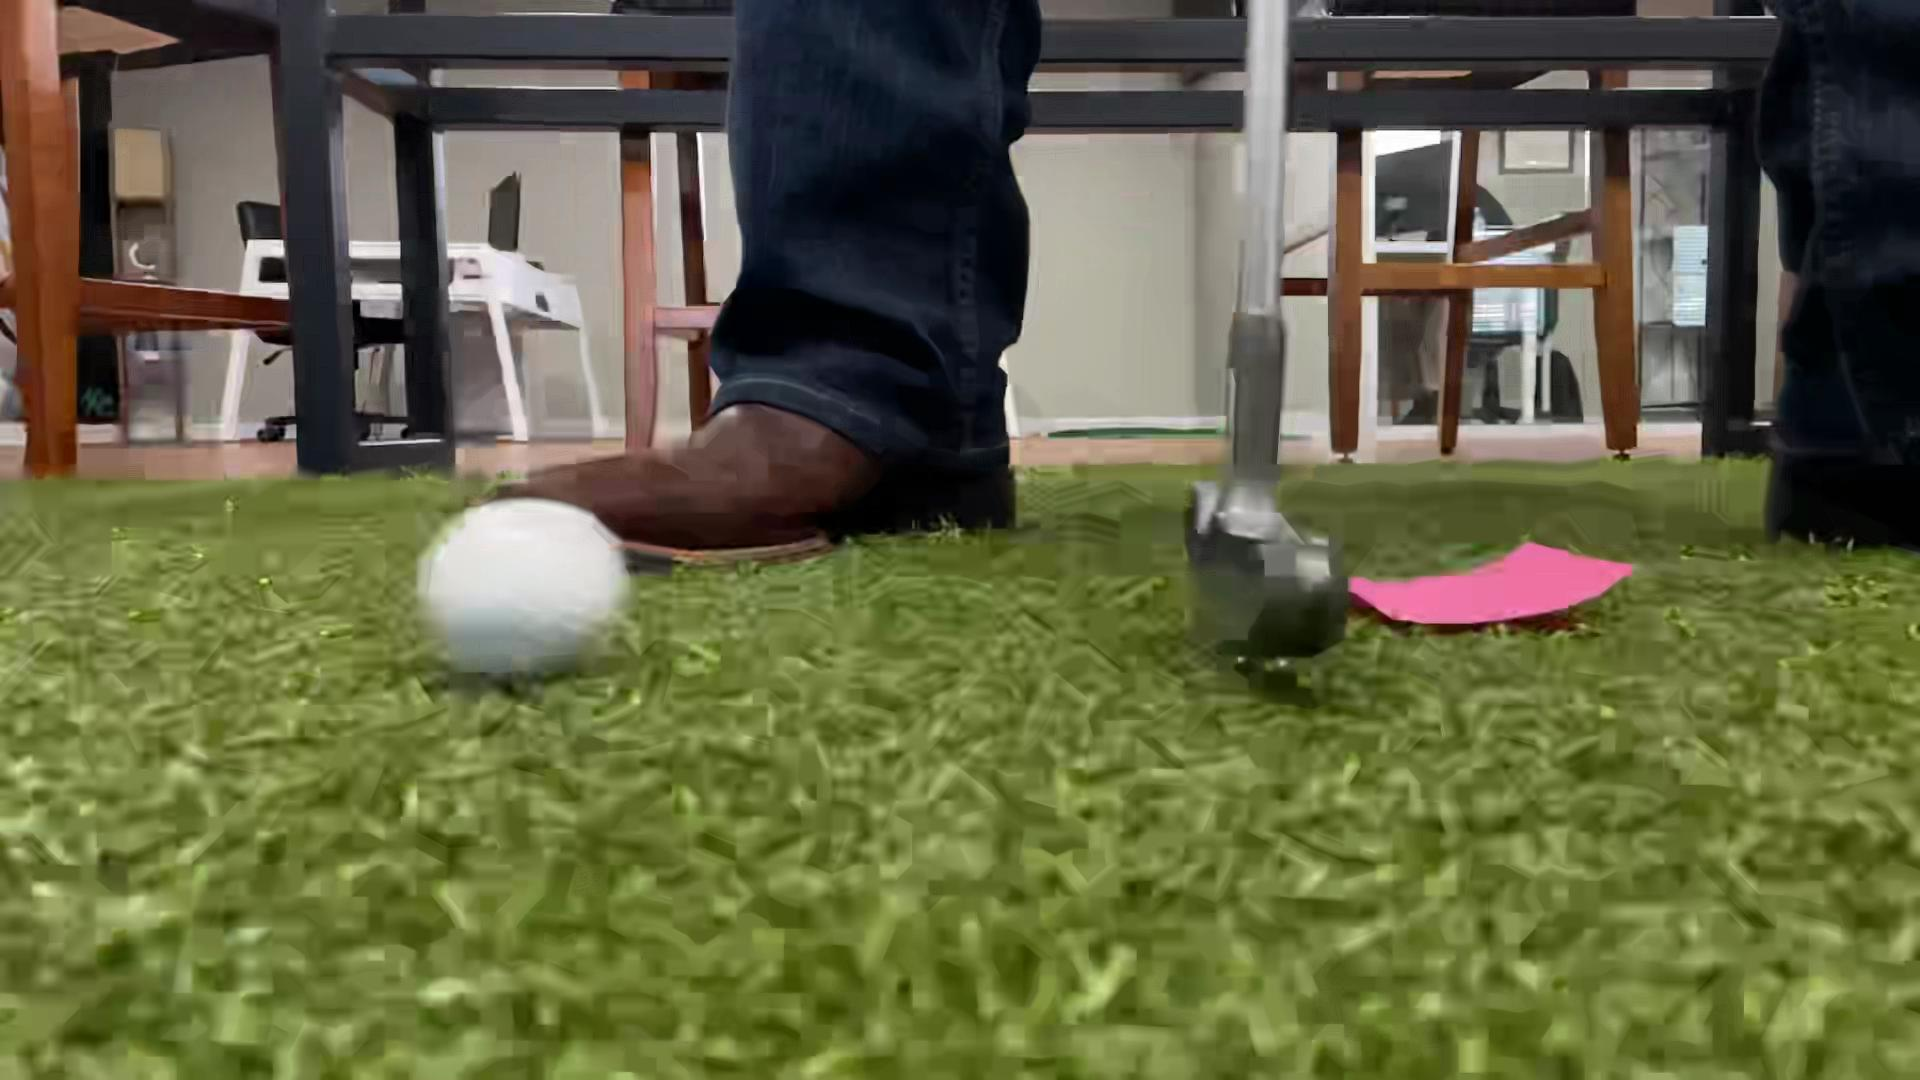golfball: (417, 501, 630, 679)
